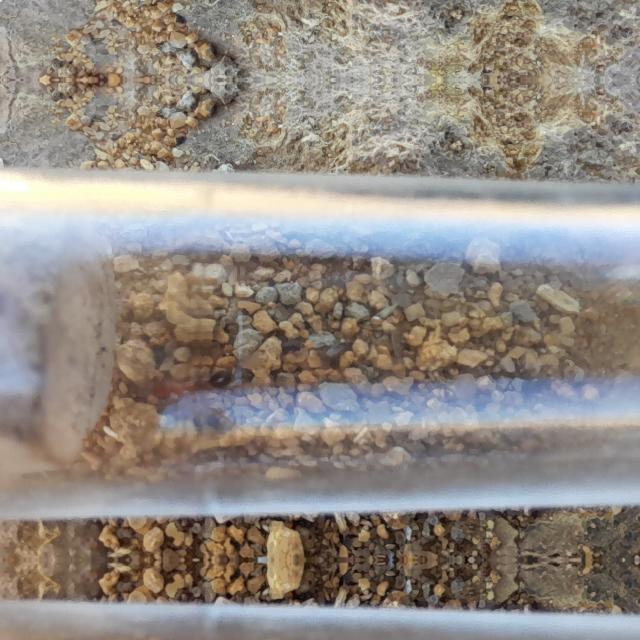Cataglyphis: (148, 360, 244, 408)
